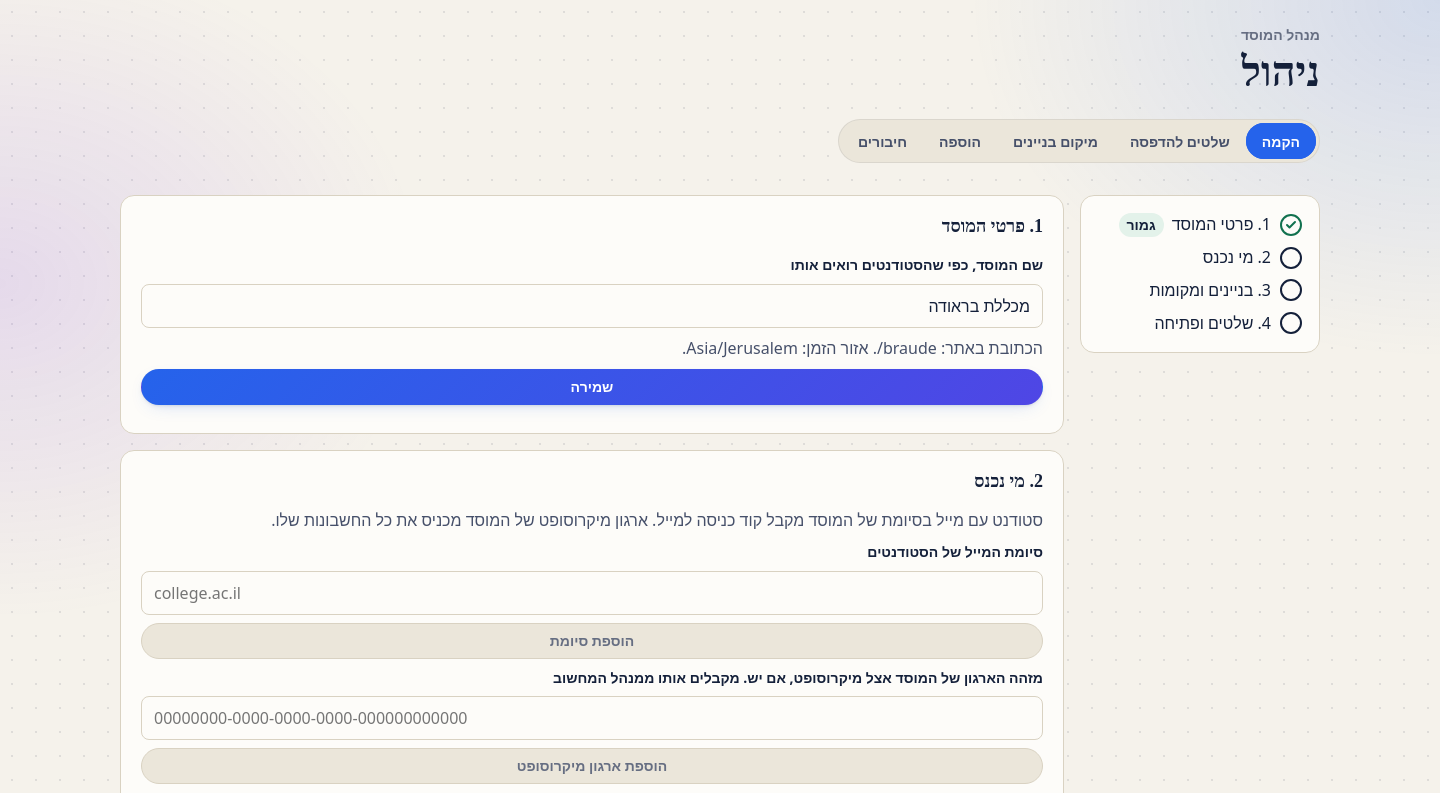
it: AdminPage › adds an e-mail domain, and refuses a public one in Hebrew
Type "gmail.com" into the field labelled "סיומת המייל של הסטודנטים" at (592, 593), box x1=141 y1=571 x2=1043 y2=615
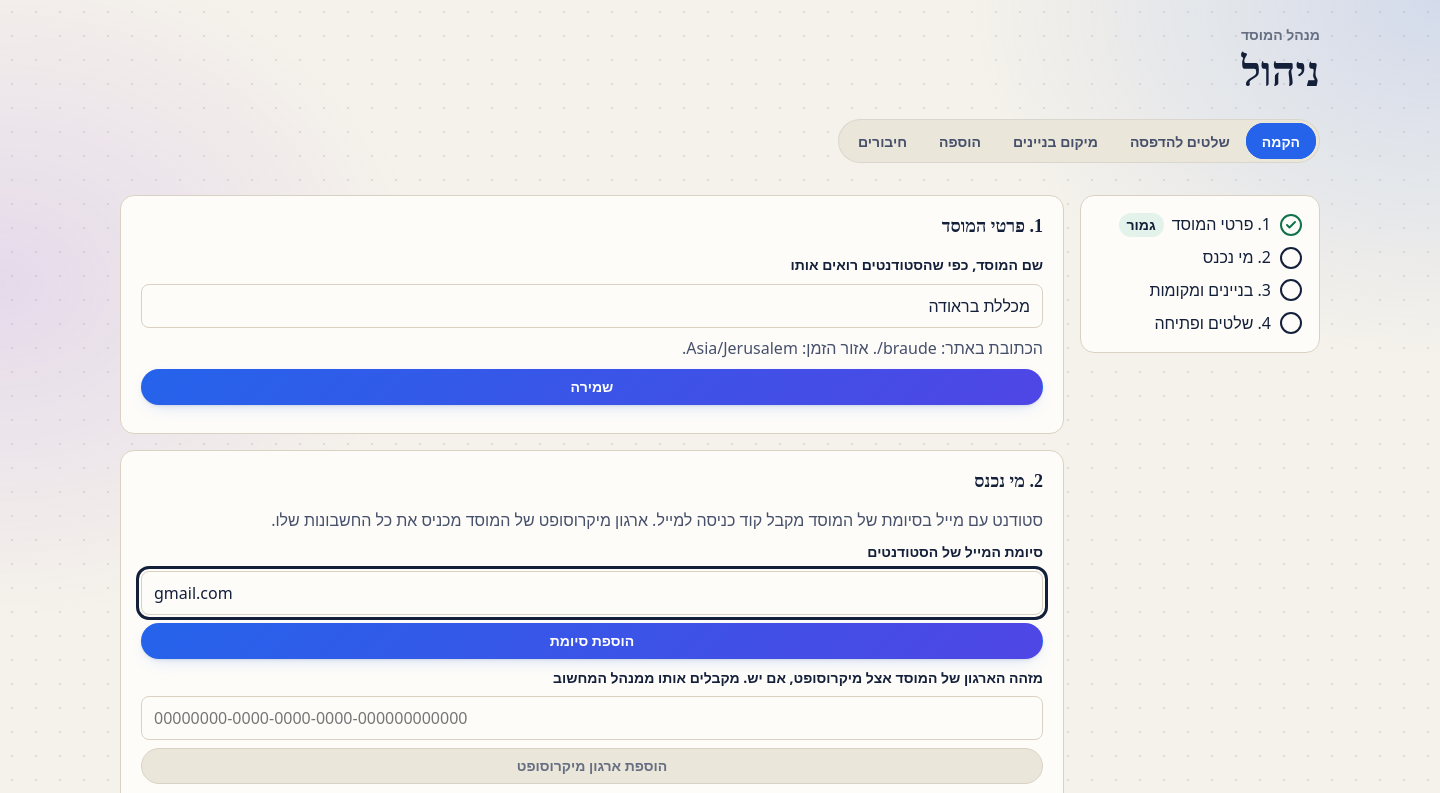
Click the button "הוספת סיומת" at (592, 641), box x1=141 y1=623 x2=1043 y2=659
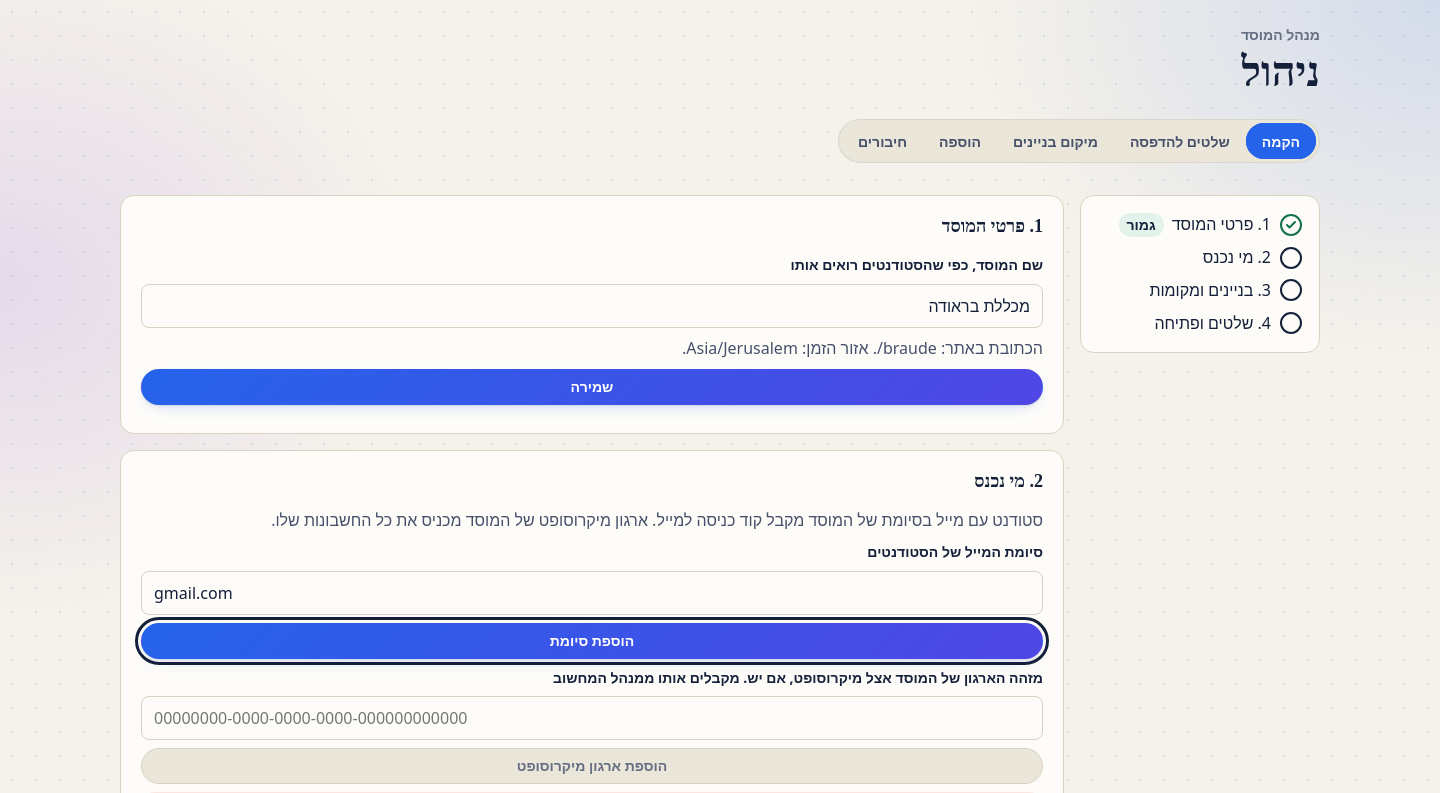
Replace the text in the field labelled "סיומת המייל של הסטודנטים" with "telhai.ac.il" at (592, 593), box x1=141 y1=571 x2=1043 y2=615
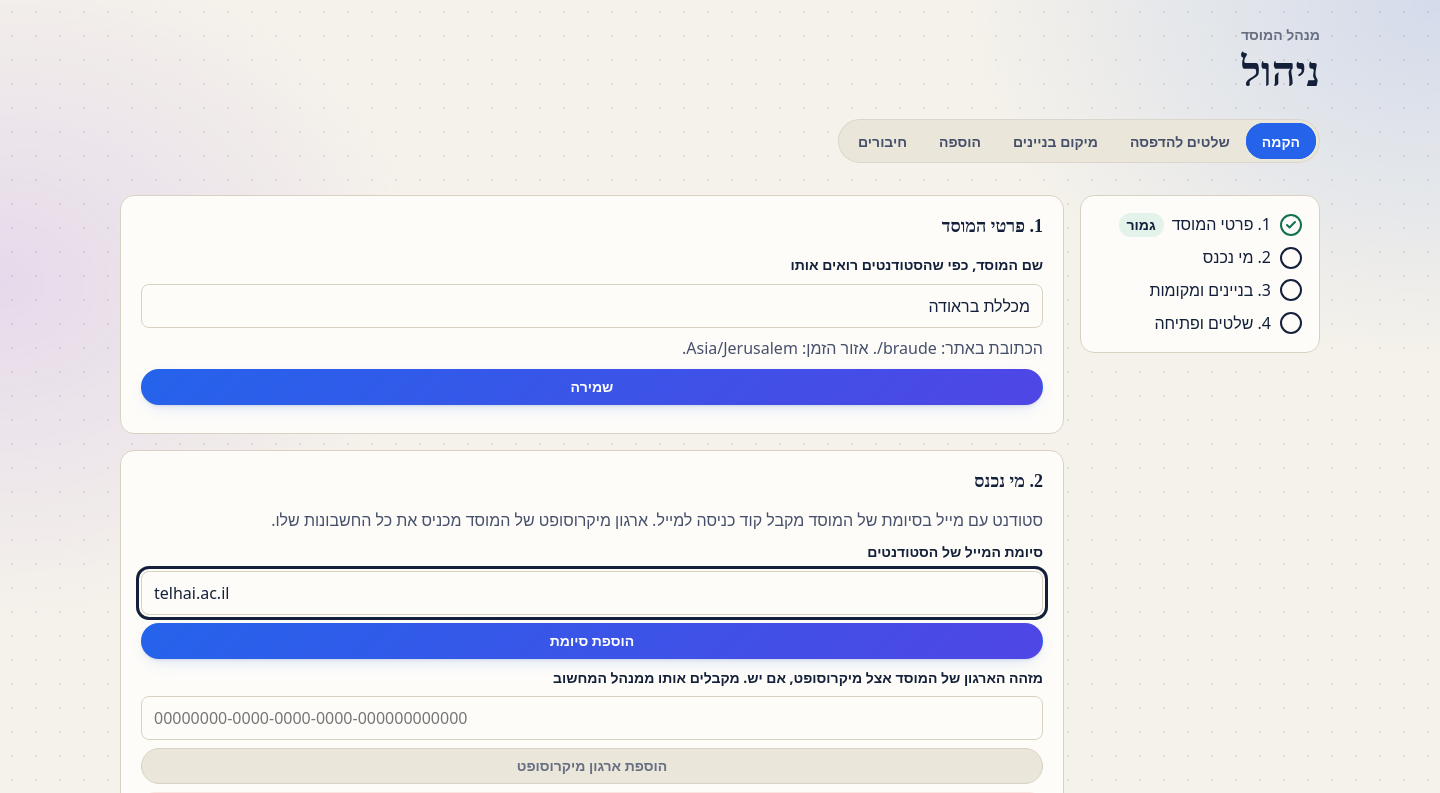
Click the button "הוספת סיומת" at (592, 641), box x1=141 y1=623 x2=1043 y2=659
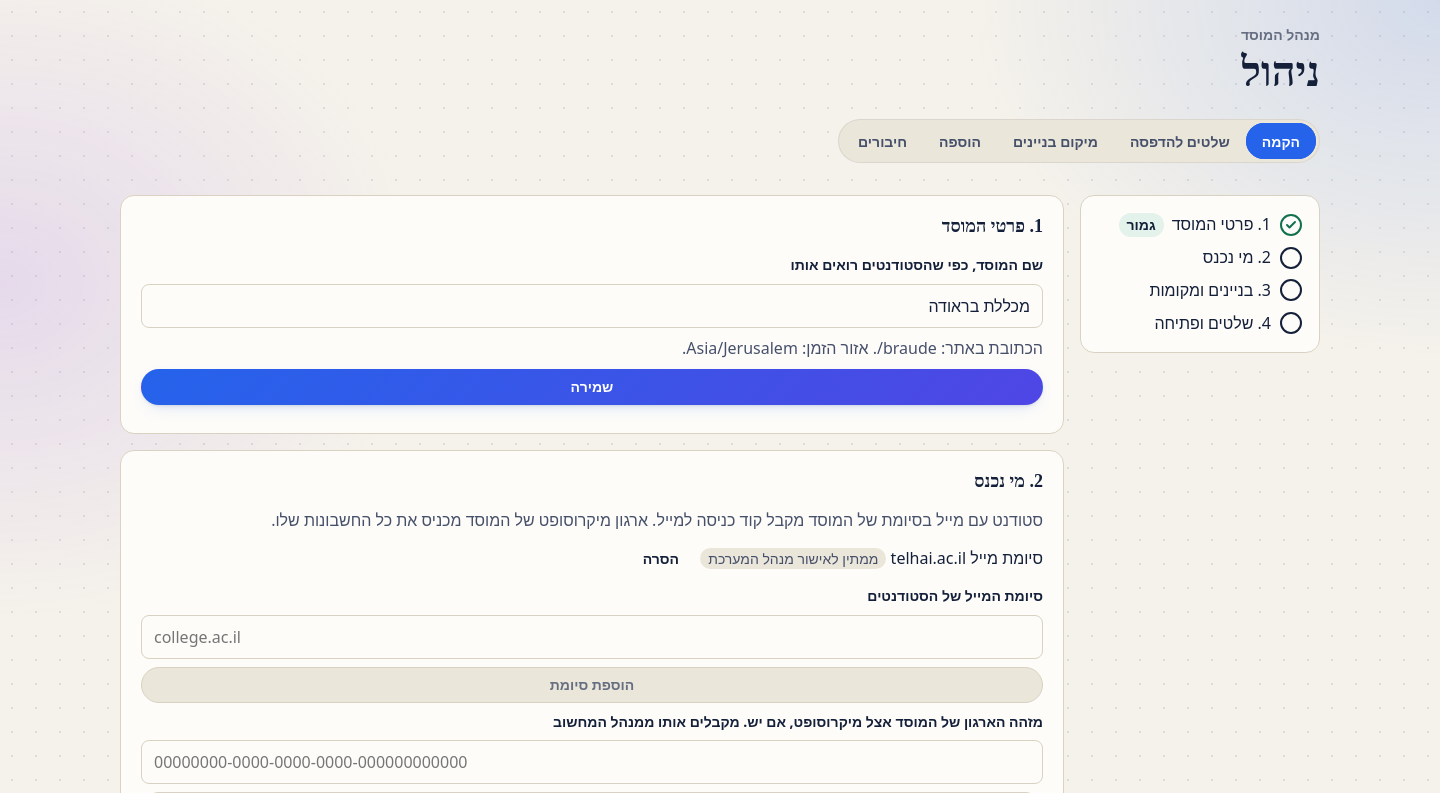
Now the text "telhai.ac.il" is shown, box x1=891 y1=547 x2=966 y2=569
Now the text "ממתין לאישור מנהל המערכת" is shown, box x1=700 y1=548 x2=886 y2=569
